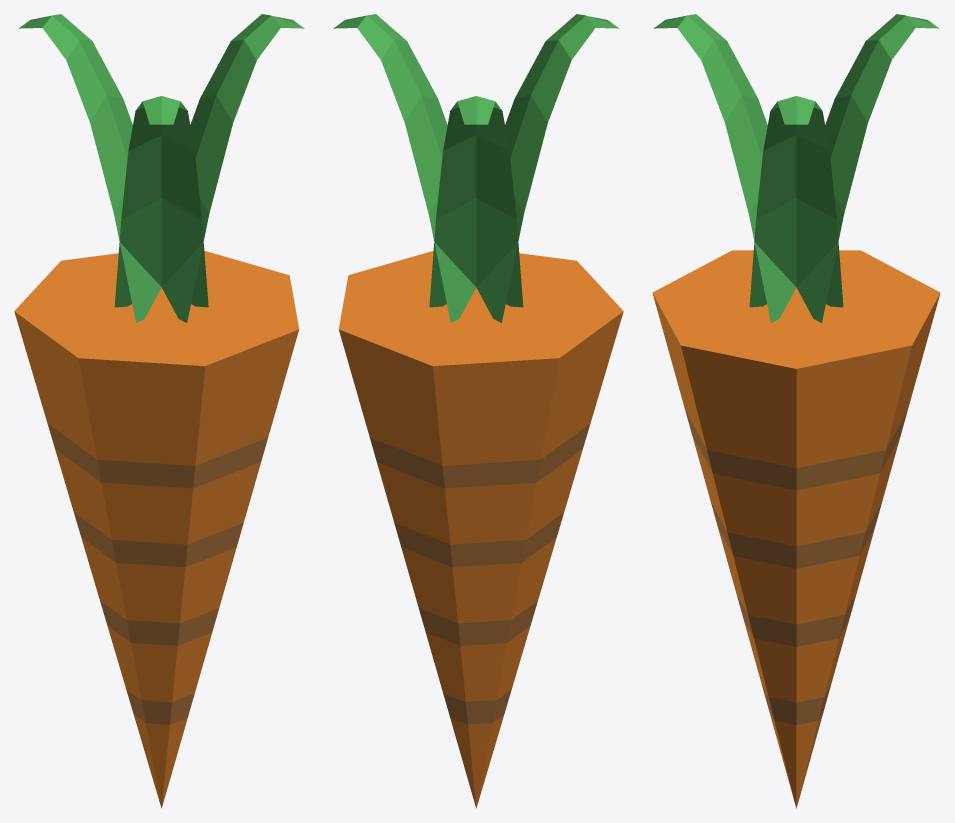
Rendered from carrot.glb.
3 views of the same model, side by side, from view 1: azimuth 30°, elevation 25°; view 2: azimuth 150°, elevation 25°; view 3: azimuth 270°, elevation 25° (orthographic).
Parts seen in each view (by area): view 1: CarrotExport; view 2: CarrotExport; view 3: CarrotExport.
Part boxes in pixels (left/top/right/bottom): CarrotExport: left=14, top=14, right=304, bottom=808; CarrotExport: left=333, top=14, right=623, bottom=808; CarrotExport: left=652, top=14, right=940, bottom=808.
Bounding box in the file's own units: 0.8284 × 2.4 × 0.8189.
Materials: 1 (1 with a texture image).
